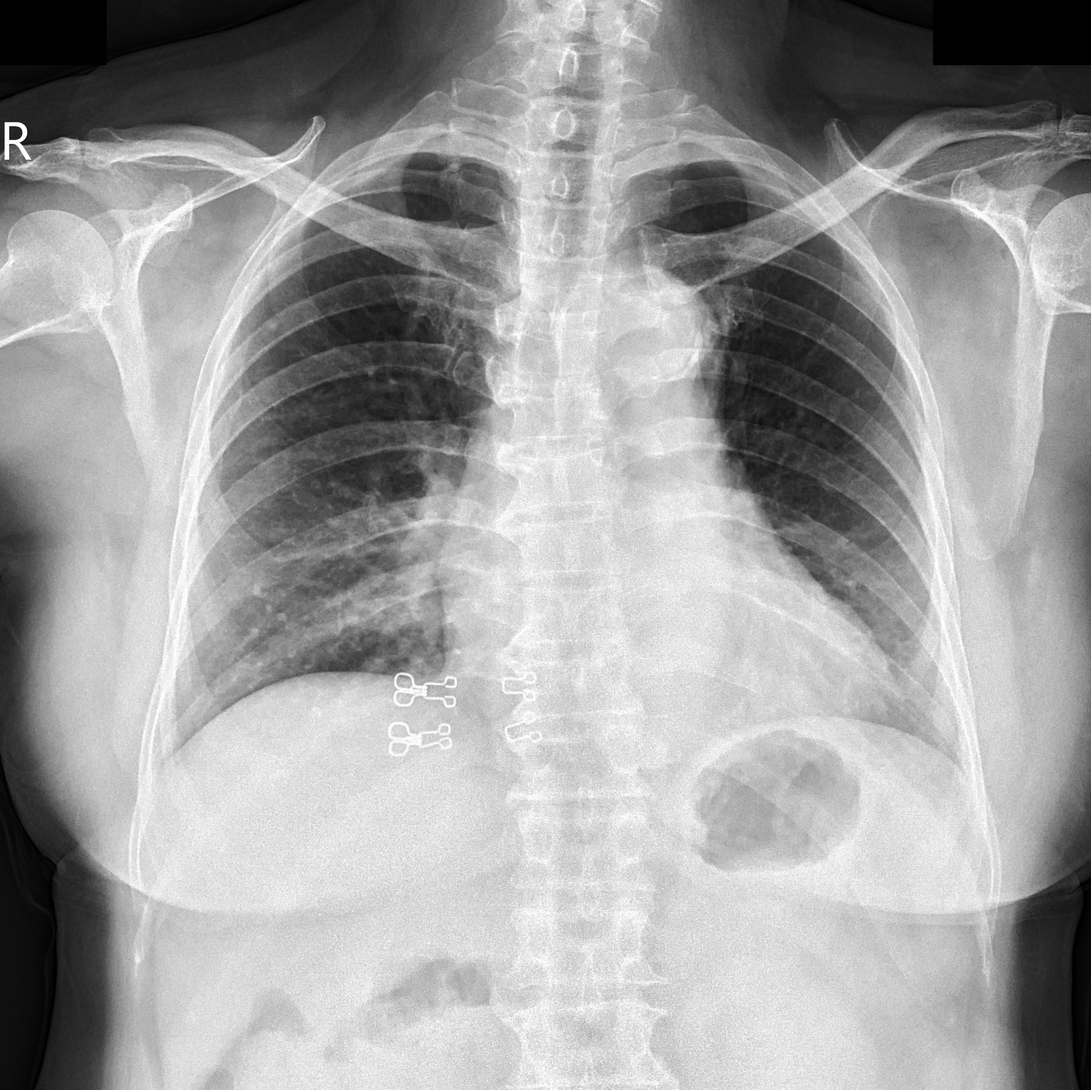Aortic enlargement: (588, 264, 715, 397)
Cardiomegaly: (440, 536, 901, 722)
